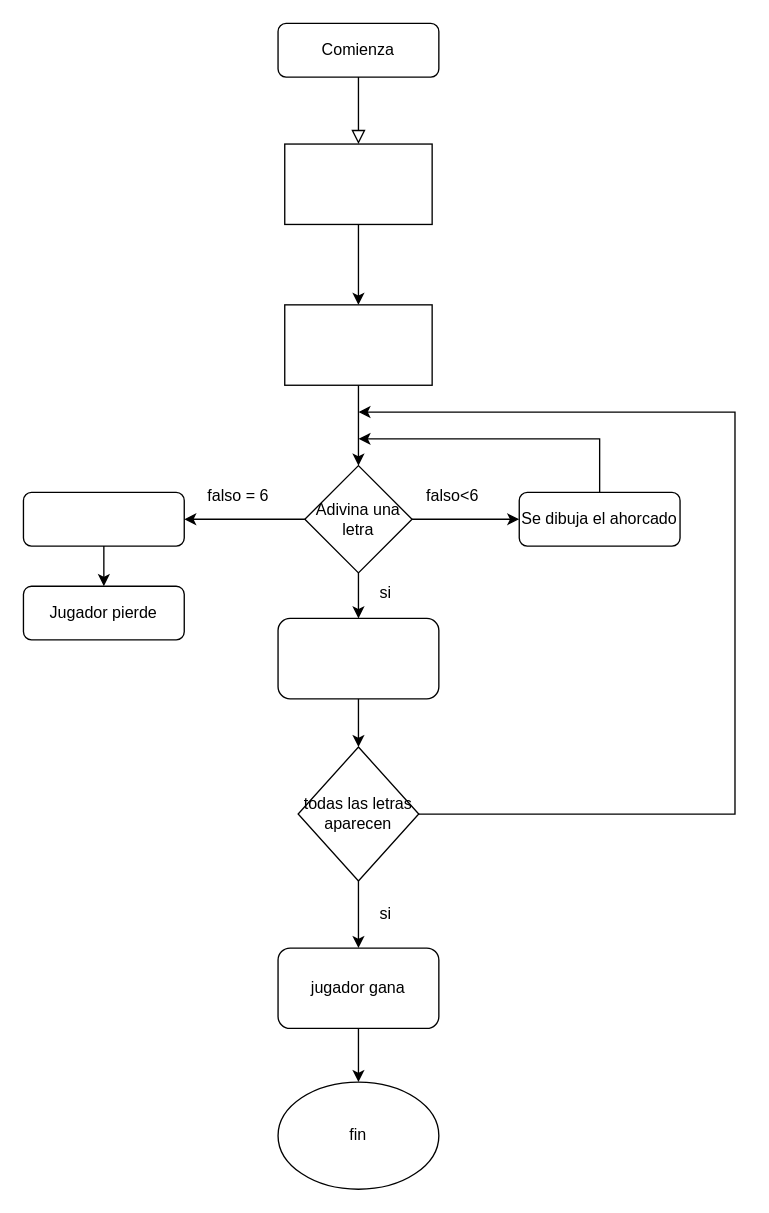
Image size: 769x1213. Some labels were removed from this diagram. Each missing label, with the centre of its shape:
"Ahorcado dibujado completado" belongs at (103,518).
"Elige la categoria" belongs at (357,183).
"la letra aparece en un espacio en blanco" belongs at (358,658).
"Mostrar el espacio en blanco de una palabra" belongs at (357,344).
